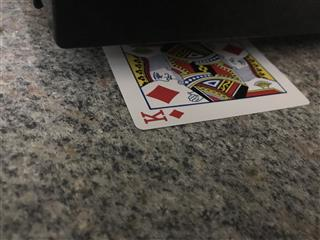KingOfDiamonds: (101, 43, 310, 131)
